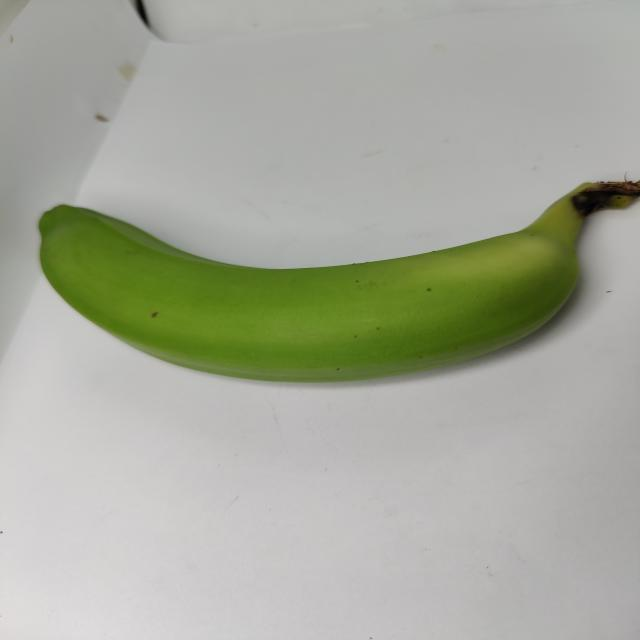raw: (4, 112, 640, 466)
